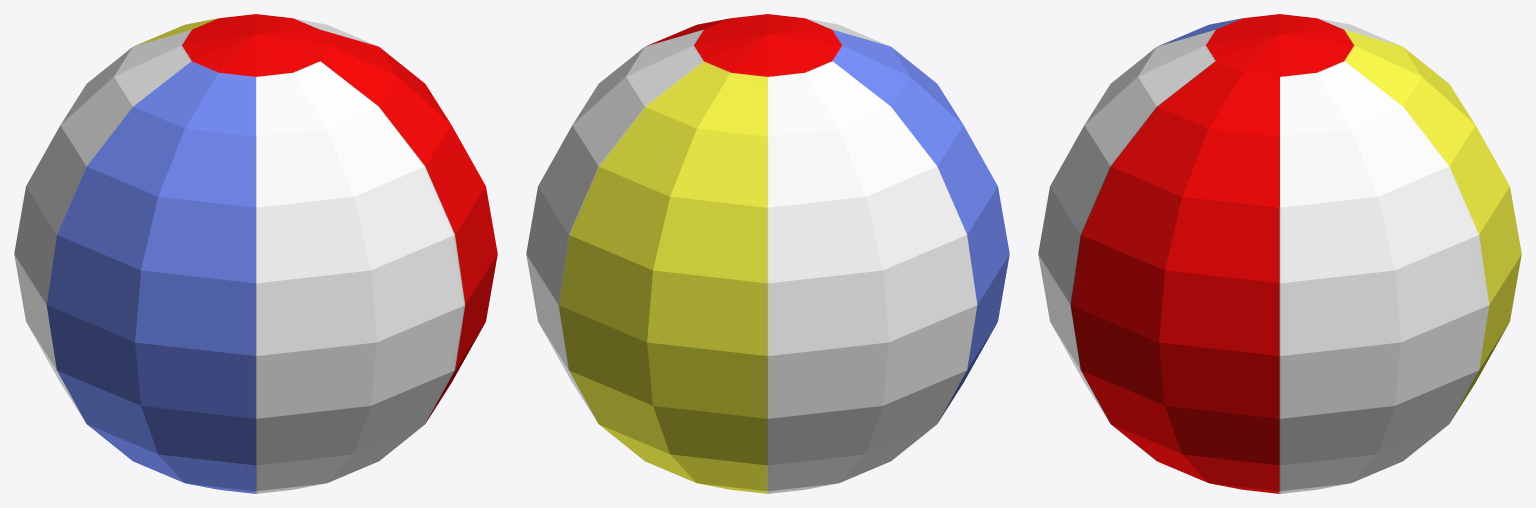
Rendered from Model_Ball.fbx.
3 renders of one model, left to right at view 1: azimuth 30°, elevation 25°; view 2: azimuth 150°, elevation 25°; view 3: azimuth 270°, elevation 25°, orthographic.
Parts seen in each view (by area): view 1: Beach Ball; view 2: Beach Ball; view 3: Beach Ball.
Boxes of the visible parts, bbox=[...] form: Beach Ball: bbox=[14, 14, 497, 493]; Beach Ball: bbox=[526, 14, 1009, 493]; Beach Ball: bbox=[1038, 14, 1521, 493].
Bounding box in the file's own units: 2.48 × 2.48 × 2.48.
Materials: 1 (1 with a texture image).
